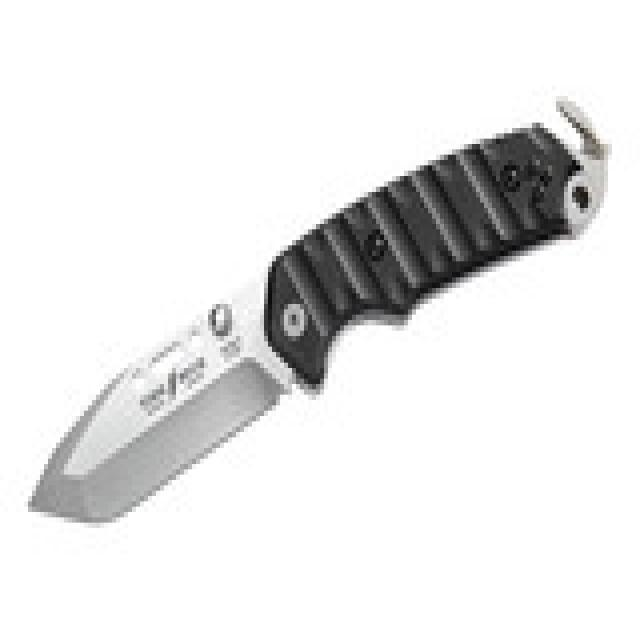Knife: (24, 93, 610, 522)
